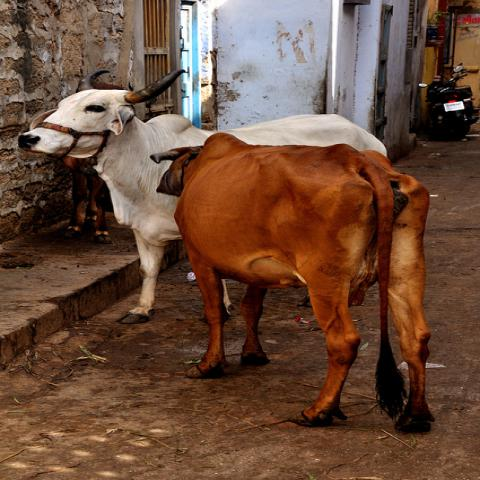motorcycle: (418, 61, 479, 145)
